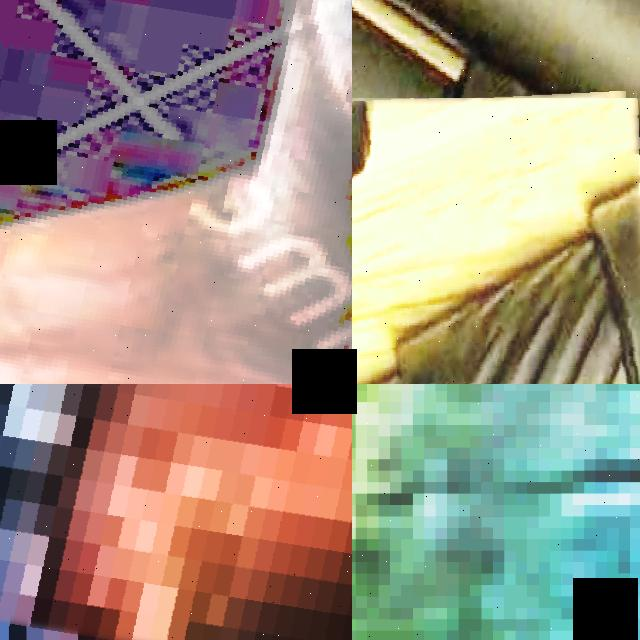arms: (0, 0, 352, 384), (352, 0, 640, 384), (0, 384, 352, 640), (352, 98, 640, 384)
